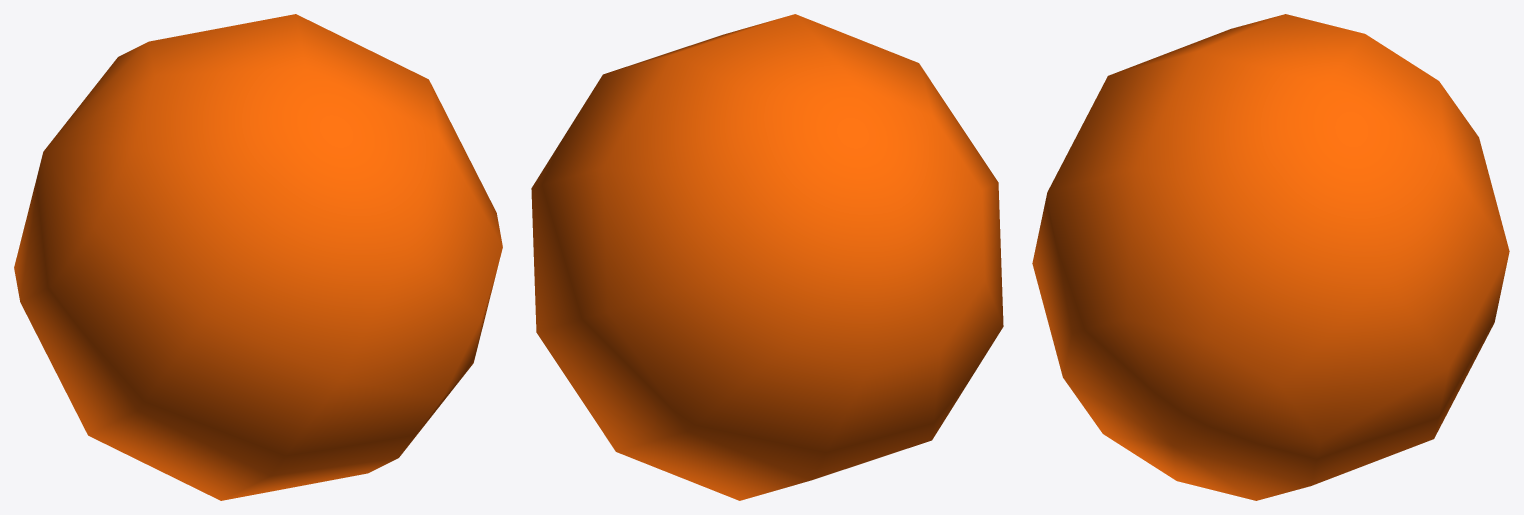
File: propsMaison_orange.fbx
3 renders of one model, left to right at view 1: azimuth 30°, elevation 25°; view 2: azimuth 150°, elevation 25°; view 3: azimuth 270°, elevation 25°, orthographic.
Parts seen in each view (by area): view 1: orange; view 2: orange; view 3: orange.
Part boxes in pixels (x1=…): orange: x1=14, y1=14, x2=502, y2=500; orange: x1=531, y1=14, x2=1003, y2=500; orange: x1=1032, y1=14, x2=1509, y2=500.
Bounding box in the file's own units: 29.71 × 28.49 × 29.27.
